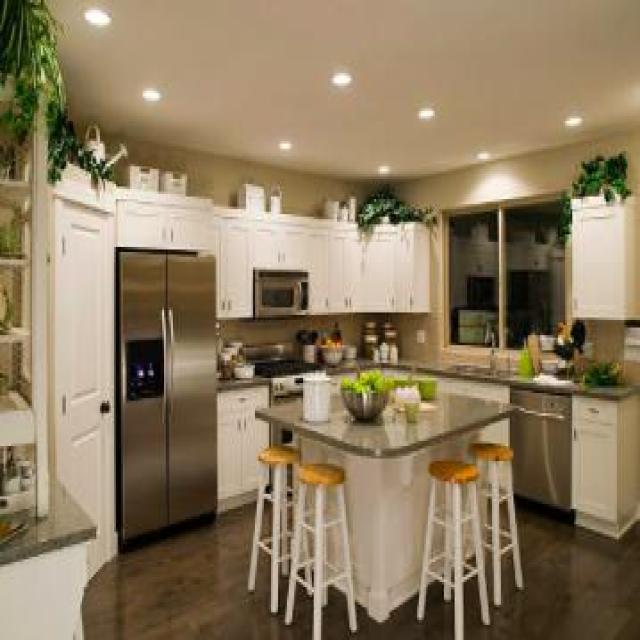dishwasher: (510, 386, 569, 512)
